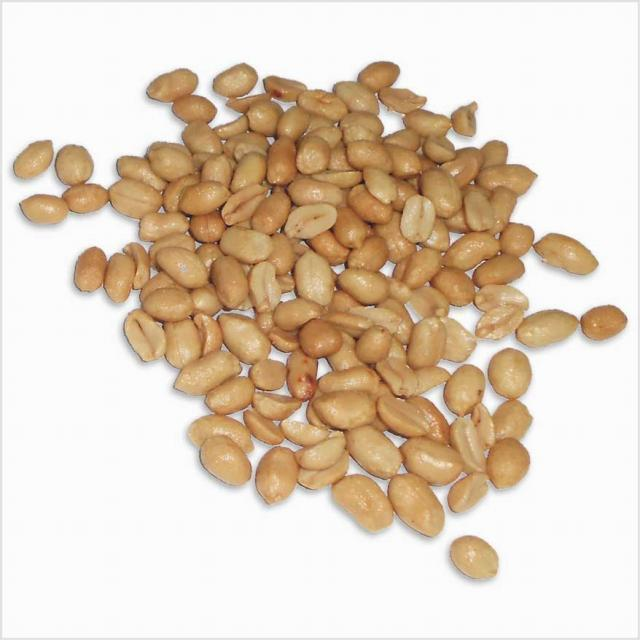Frutta secca: (17, 51, 625, 601)
